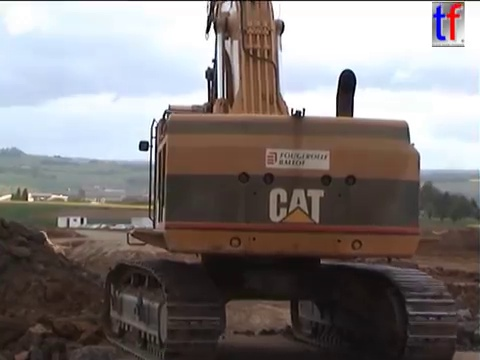excavator: (99, 1, 461, 360)
truck: (1, 224, 125, 360)
